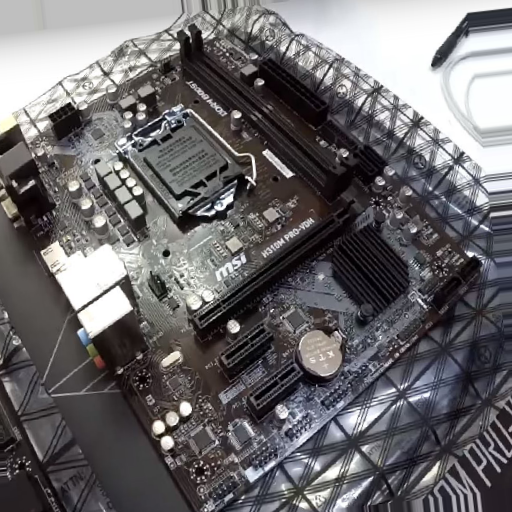CPU: (118, 108, 235, 218)
GPU: (193, 200, 363, 332)
MOTHERBOARD: (4, 29, 477, 510)
RAM: (179, 23, 356, 197)
